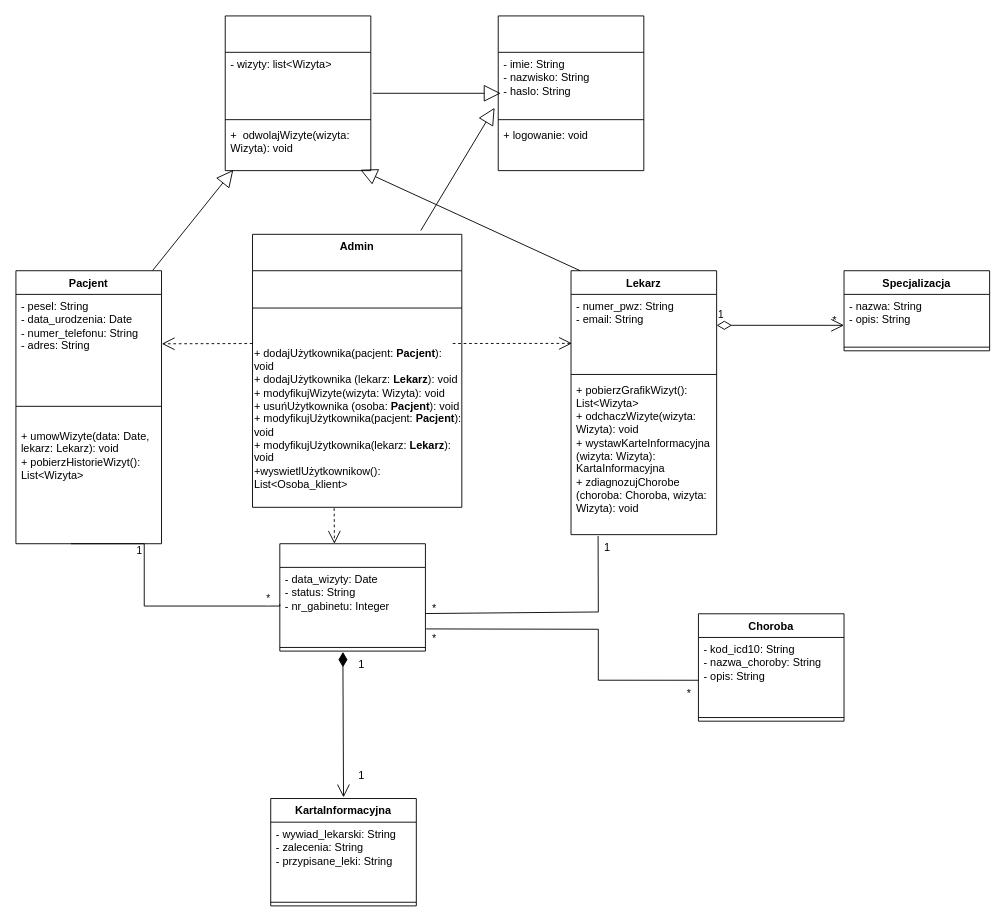
Some shapes in this 1006 by 922 pixel diagram are drawn without their labels. Here are the shapes that lost their labels. From the top down, the box of each, then its label:
(224, 15, 371, 171): Osoba_klient <<abstract>>
(497, 15, 644, 171): Osoba <<abstract>>
(279, 543, 425, 651): Wizyta
